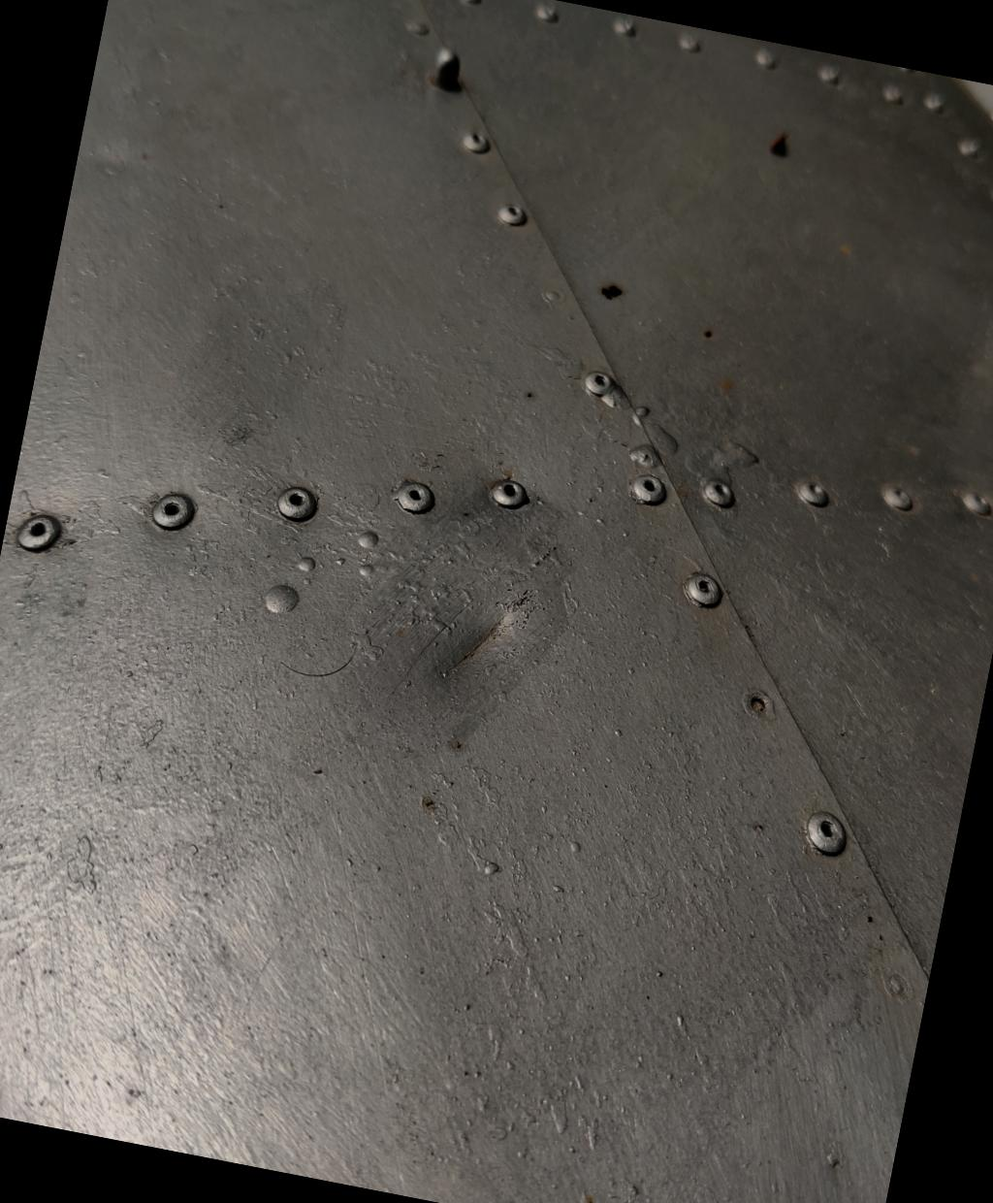dent: (343, 509, 585, 781)
